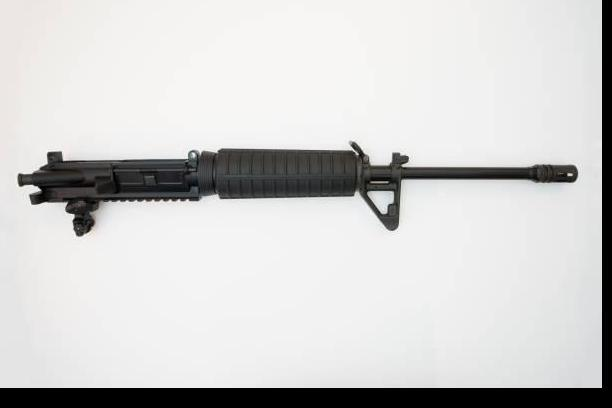larga: (17, 141, 580, 237)
